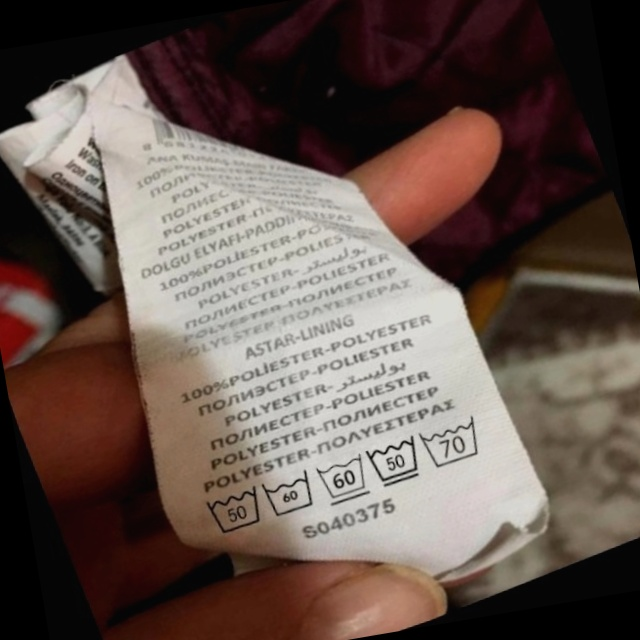50C: (194, 473, 276, 547), (359, 426, 434, 497)
60C: (310, 444, 381, 512), (255, 461, 327, 527)
70C: (414, 407, 496, 476)
